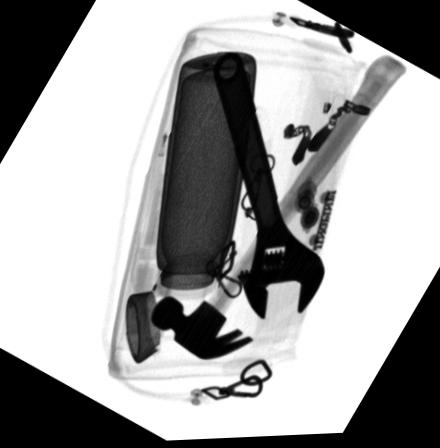Hammer: (147, 59, 409, 365)
Wrench: (209, 54, 325, 321)
